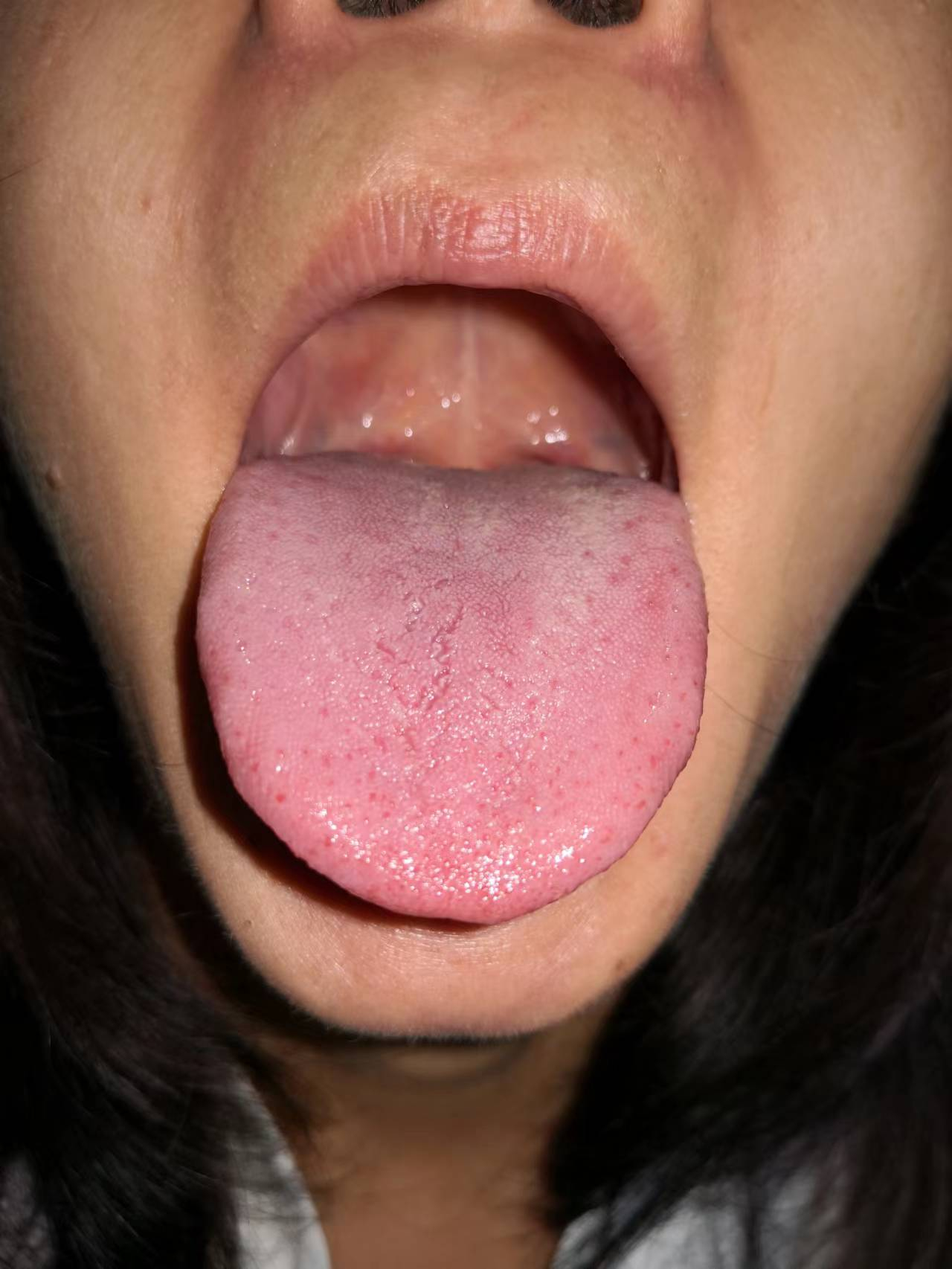baitaishe: (197, 449, 710, 923)
hongdianshe: (271, 786, 289, 809), (579, 544, 593, 563), (321, 831, 335, 849)
